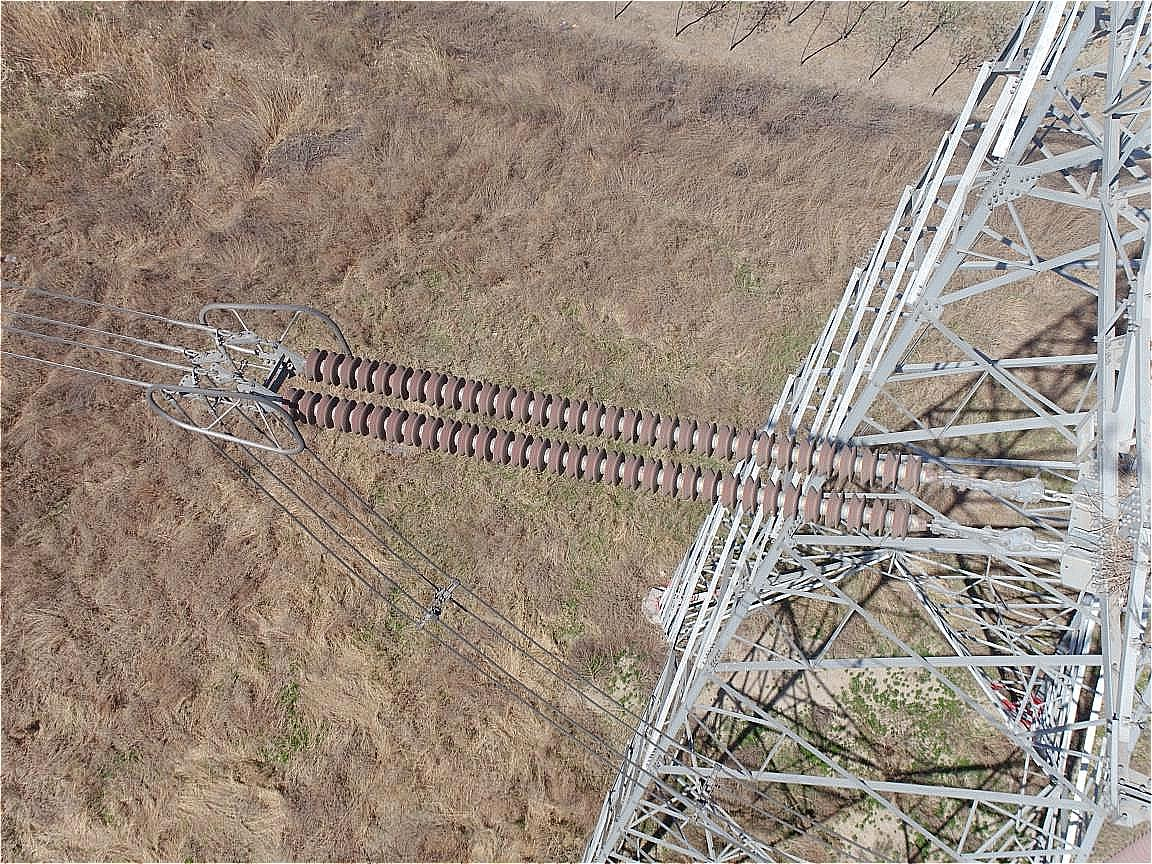insultor2: (241, 326, 943, 549)
